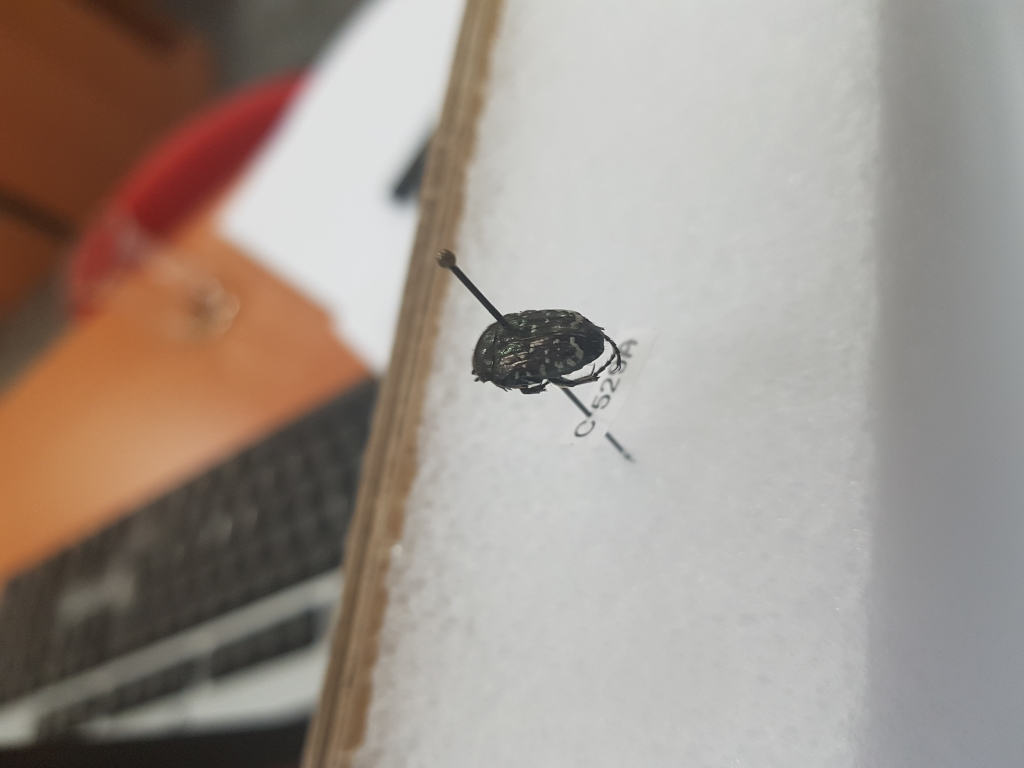Oxythyrea_funesta: (462, 301, 623, 397)
